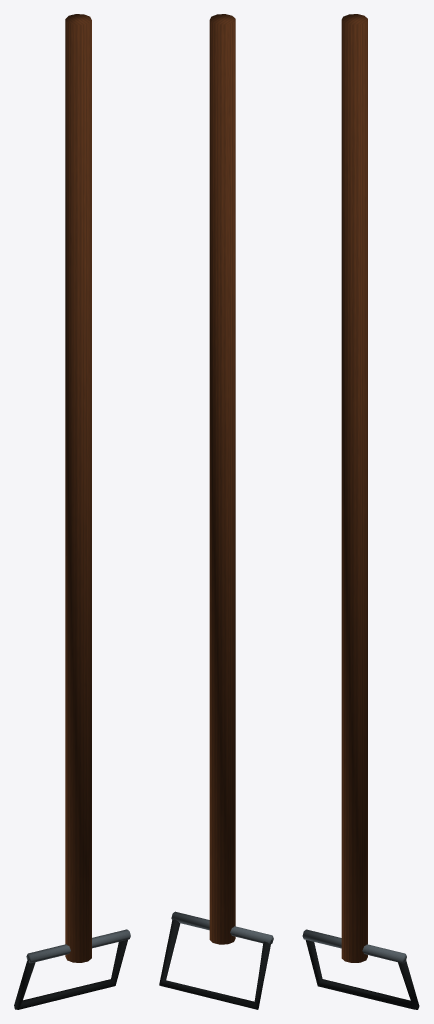
Rendered from StirrupHoe.fbx.
3 renders of one model, left to right at view 1: azimuth 30°, elevation 25°; view 2: azimuth 150°, elevation 25°; view 3: azimuth 330°, elevation 25°, orthographic.
Visible parts, largest first — view 1: StirrupHoe__Body; view 2: StirrupHoe__Body; view 3: StirrupHoe__Body.
Part boxes in pixels (x1,y1,x2,y2): StirrupHoe__Body: [14, 14, 130, 1009]; StirrupHoe__Body: [159, 14, 273, 1009]; StirrupHoe__Body: [302, 14, 419, 1009].
Size of the model in its own units: 15.77 by 149 by 5.94.
1 material, 1 textured.
